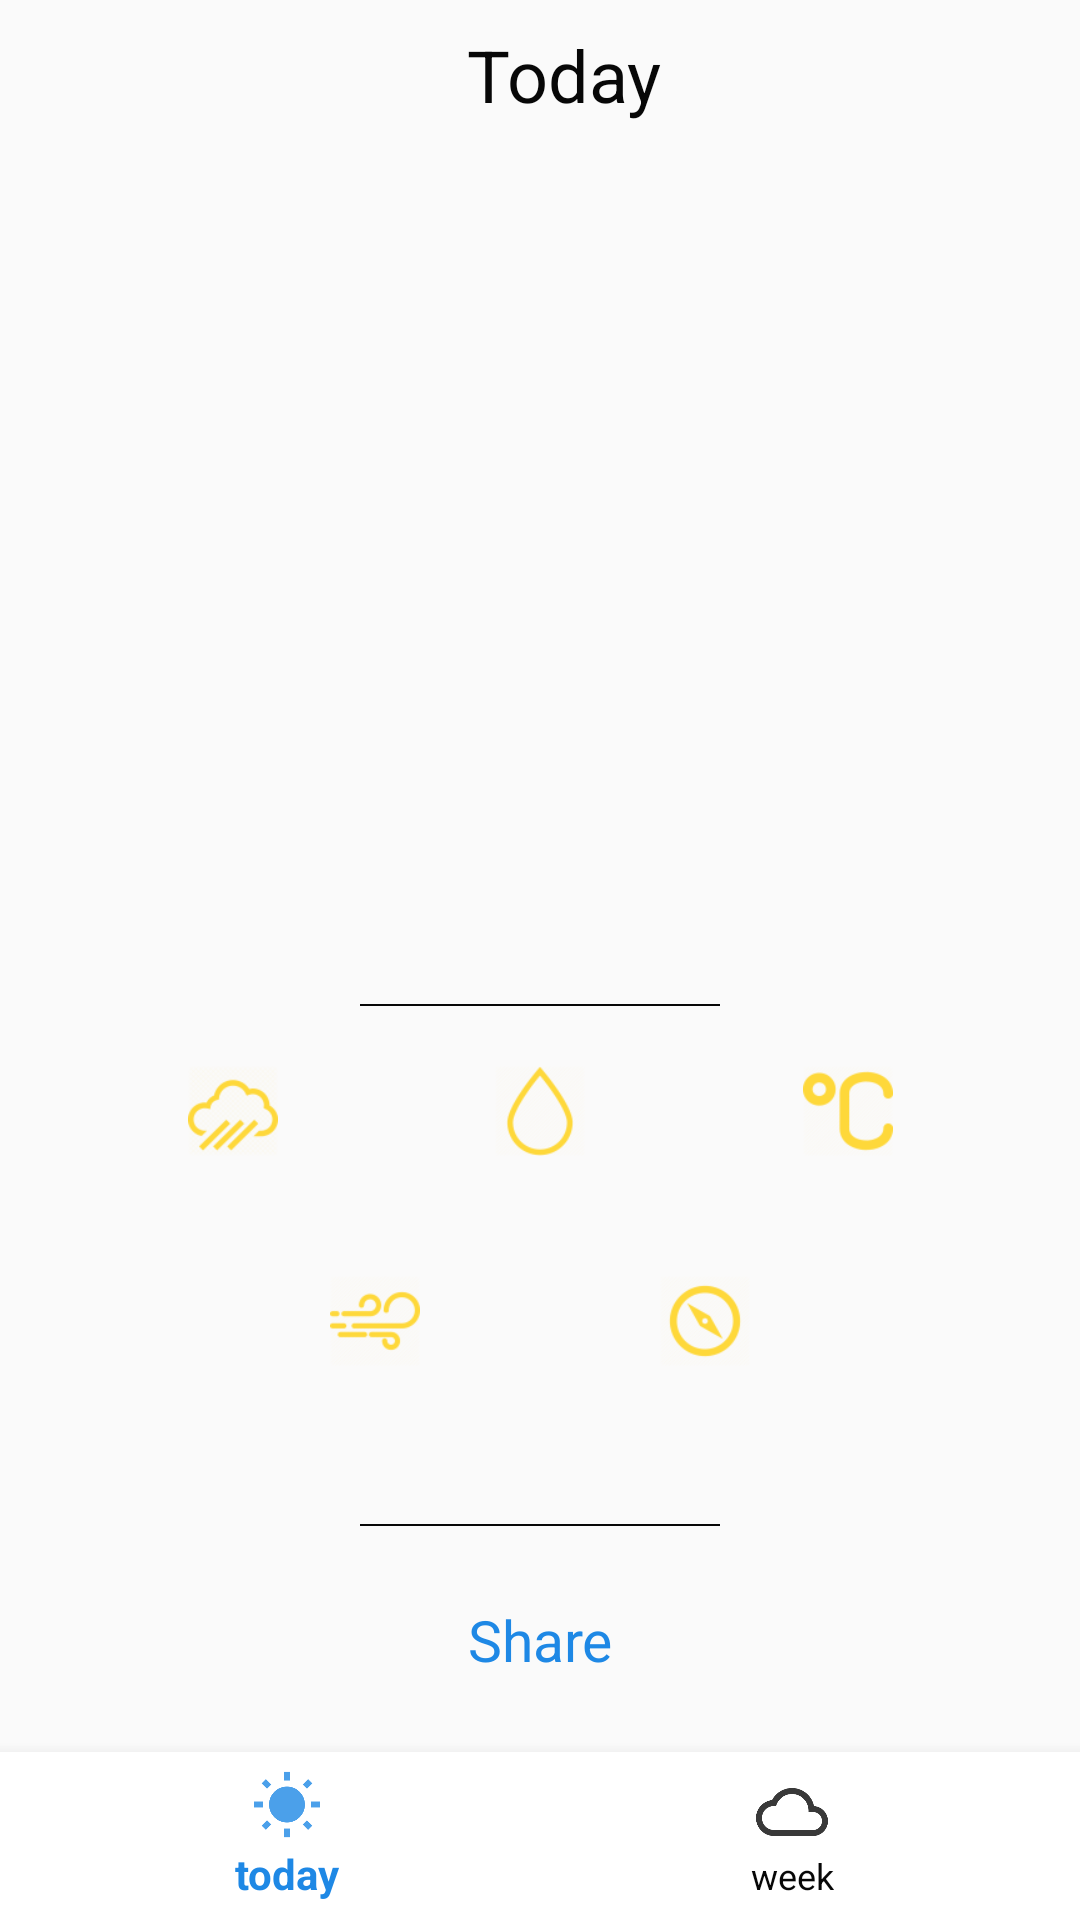

Point at icon controls on the screen. Image size 1080px×1920px, points as [x,y].
compass: [705,1321]
degree: [848,1111]
water: [540,1111]
wind: [375,1321]
